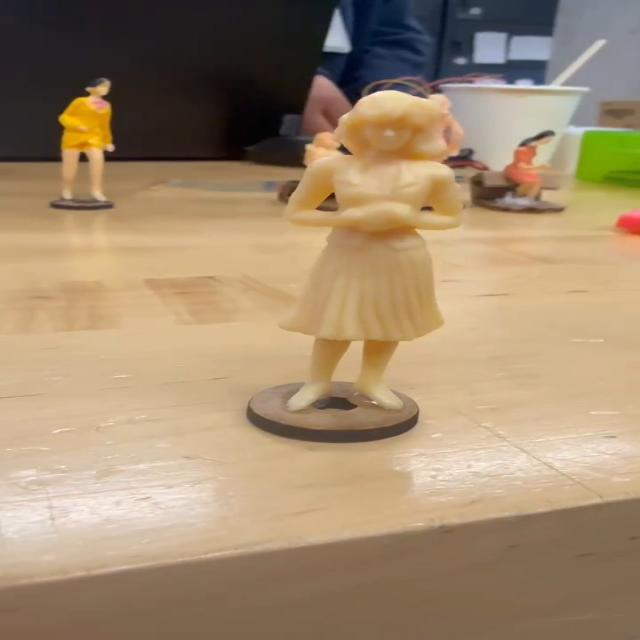Unauthorized: (290, 86, 461, 419)
